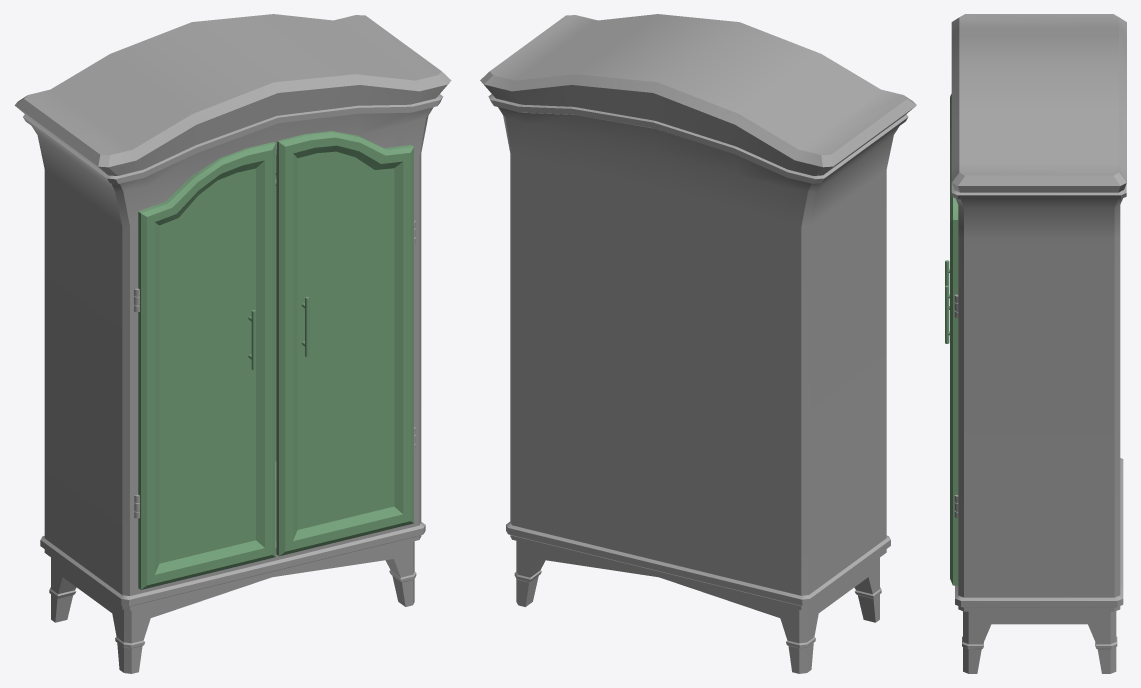
File: Closet_01.fbx
3 views of the same model, side by side, from view 1: azimuth 30°, elevation 25°; view 2: azimuth 150°, elevation 25°; view 3: azimuth 270°, elevation 25° (orthographic). The views are drawn at different scales.
Visible parts, largest first — view 1: polySurface9; view 2: polySurface9; view 3: polySurface9.
Boxes of the visible parts, x1,y1,x2,y2 form: polySurface9: (14, 14, 451, 673); polySurface9: (480, 14, 916, 673); polySurface9: (945, 14, 1126, 673).
Bounding box in the file's own units: 1.64 × 2.48 × 0.7535.
